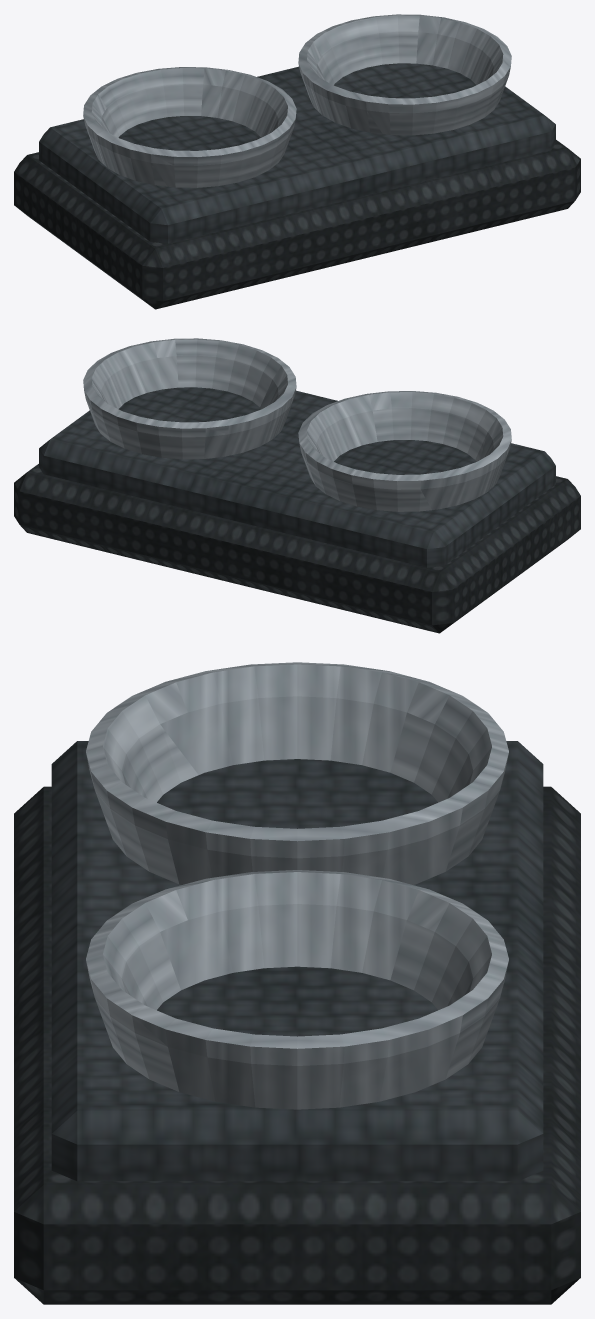
Rendered from cat_feeding_station.glb.
3 views of the same model, one above another, from view 1: azimuth 30°, elevation 25°; view 2: azimuth 150°, elevation 25°; view 3: azimuth 270°, elevation 25° (orthographic). The views are drawn at different scales.
Visible parts, largest first — view 1: fixed_hull, fixed_rubber, fixed_trim; view 2: fixed_hull, fixed_rubber, fixed_trim; view 3: fixed_trim, fixed_hull, fixed_rubber.
Part boxes in pixels (x1,y1,x2,y2): fixed_hull: (39, 63, 555, 243); fixed_rubber: (14, 140, 580, 309); fixed_trim: (83, 14, 511, 187); fixed_hull: (39, 387, 555, 567); fixed_rubber: (14, 464, 580, 633); fixed_trim: (83, 338, 511, 511); fixed_trim: (86, 662, 508, 1109); fixed_hull: (51, 741, 543, 1181); fixed_rubber: (14, 786, 580, 1304).
Size of the model in its own units: 0.53 by 0.149 by 0.3.
Materials: 3 (3 with a texture image).
